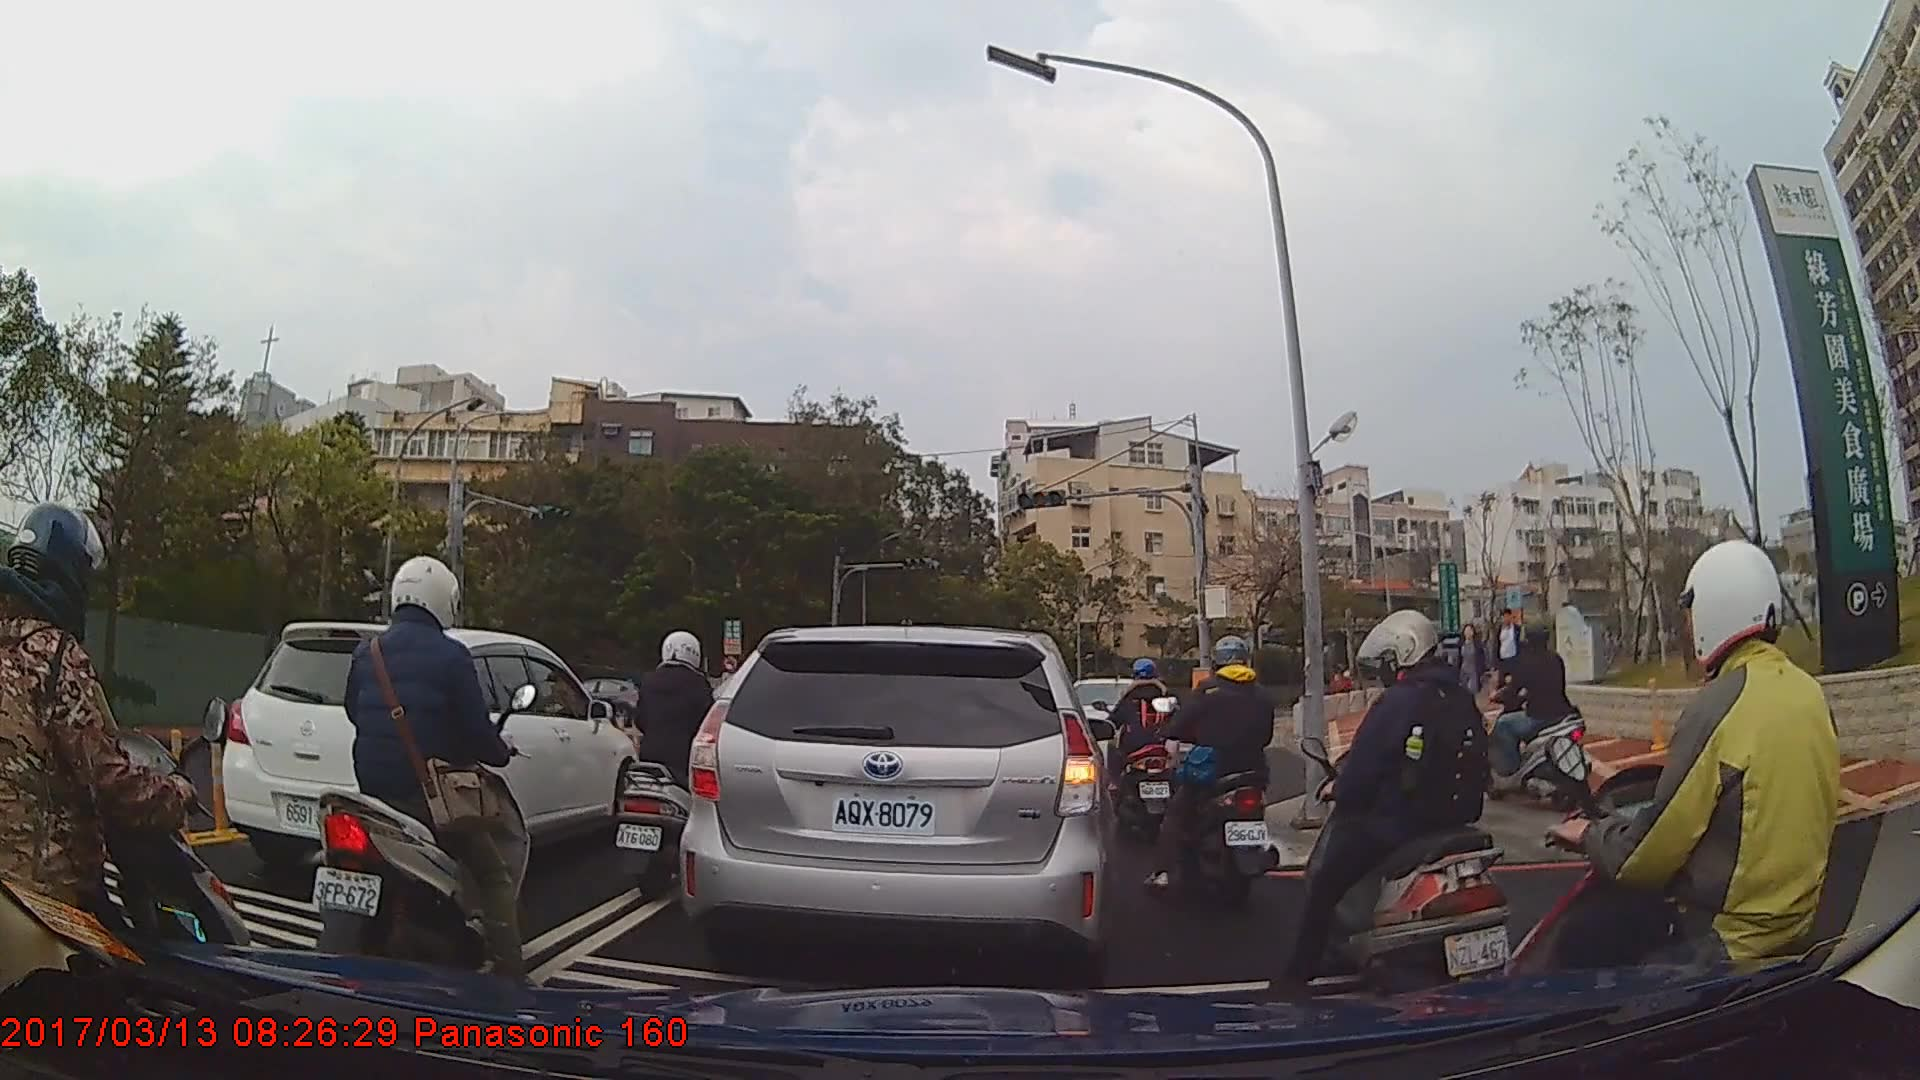pedestrian: (1487, 610, 1531, 722), (1455, 625, 1491, 722)
rider: (1487, 542, 1878, 1080), (1, 500, 260, 1053), (305, 547, 532, 998), (1273, 609, 1524, 1013), (614, 629, 750, 911), (1150, 638, 1283, 907), (1471, 621, 1593, 813), (1094, 655, 1183, 846)
vehicle: (673, 625, 1114, 983), (220, 619, 638, 882), (1059, 676, 1164, 784), (557, 678, 646, 726)
